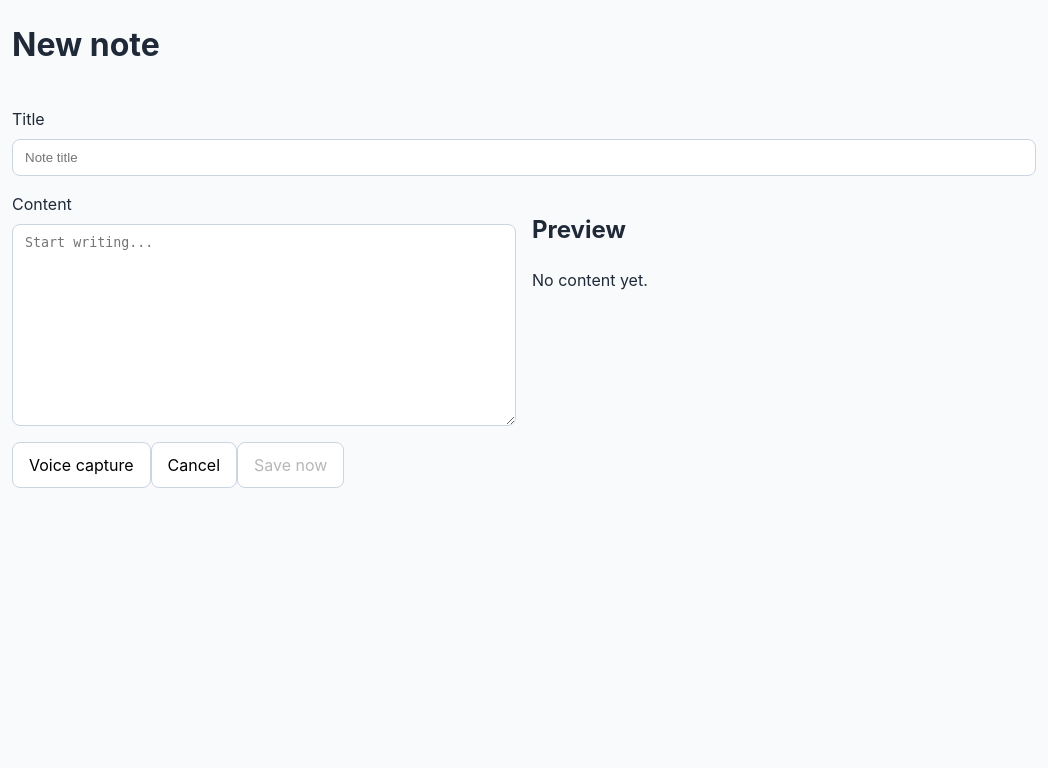
Test: NoteEditorPage API wiring › stores offline creates locally with a pending-sync queue
Type "Offline note" into the field with placeholder "Note title". click: (524, 157)
box: [12,139,1036,176]
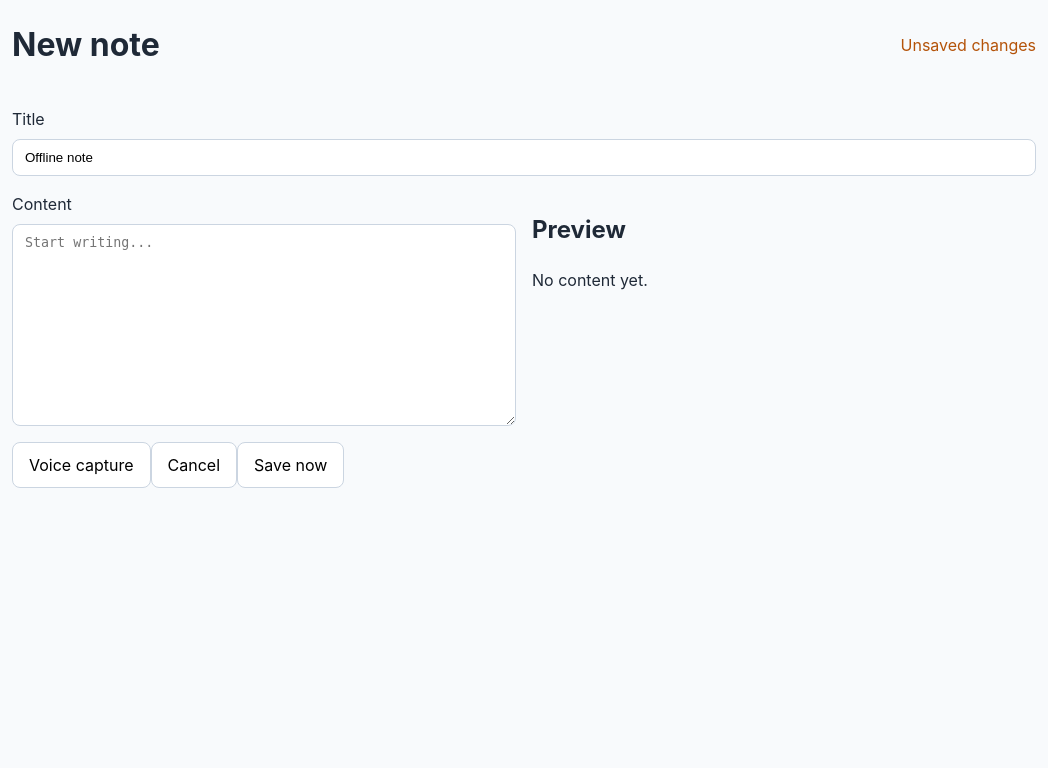
Type "Queued locally" into the text box with placeholder "Start writing...". click: (264, 325)
box: [12,224,516,426]
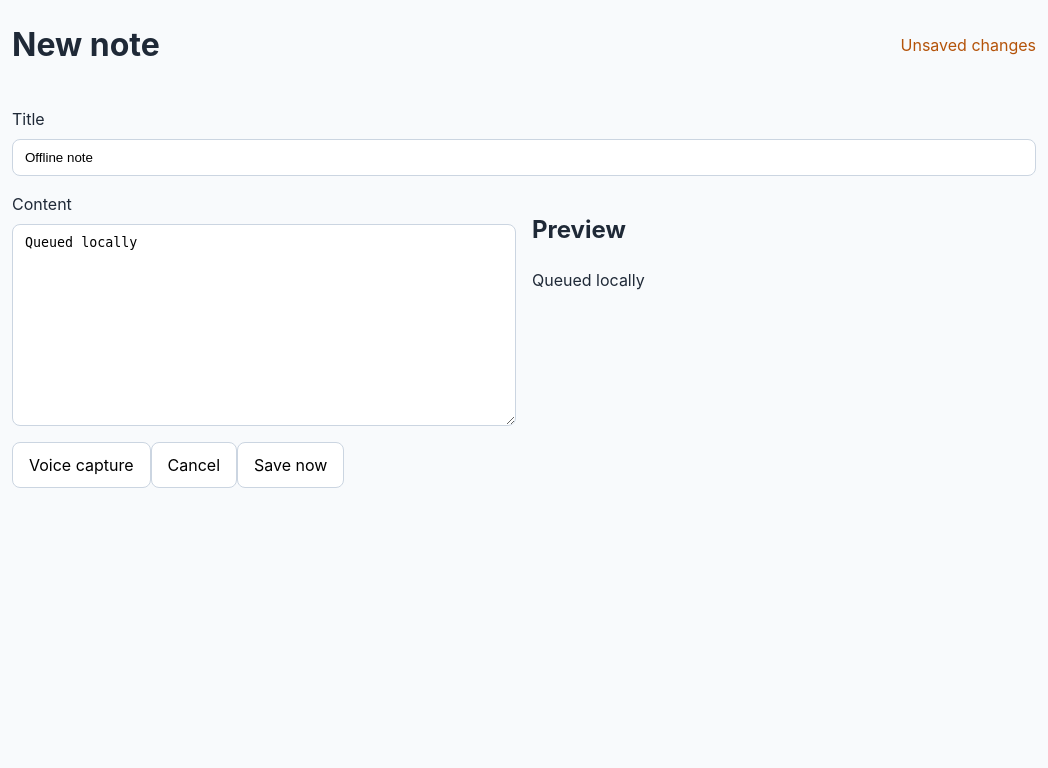
Click the button "Save now". click: (291, 465)
box: [237,442,344,488]
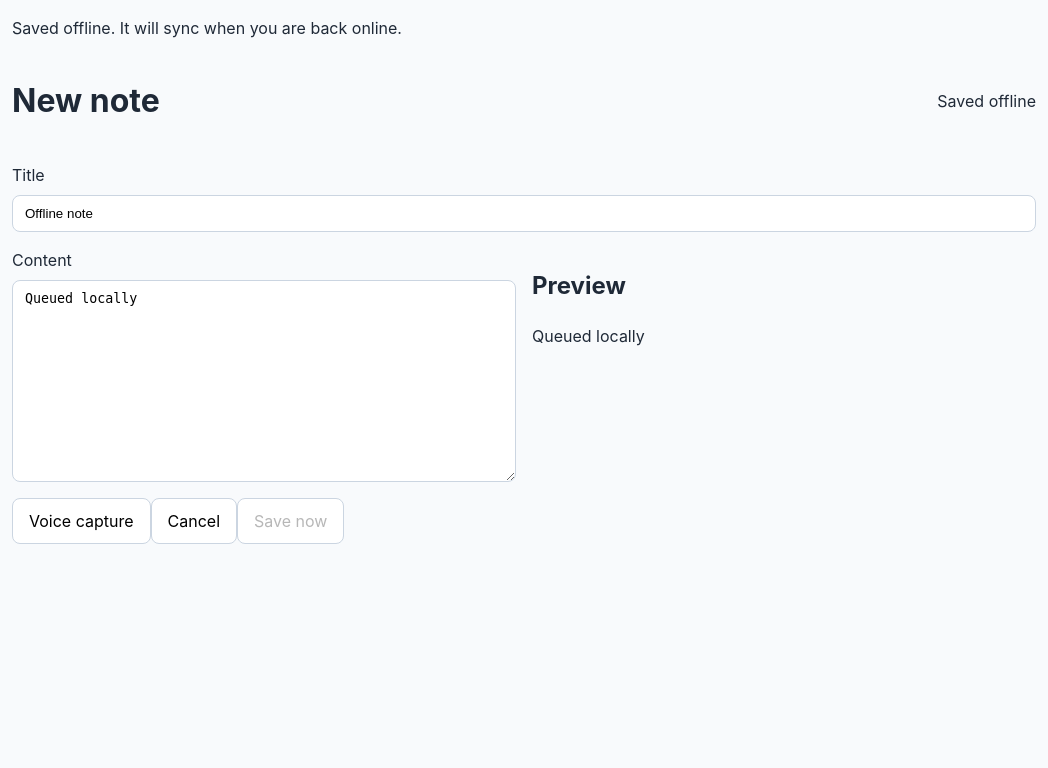
Expected: the text "Saved offline. It will sync when you are back online." is shown, [12,18,402,38]
